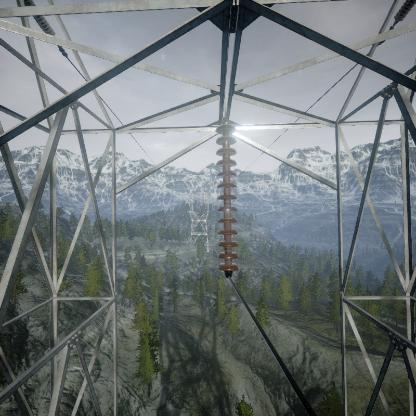insulator: (212, 118, 244, 277)
tower: (188, 188, 211, 256)
